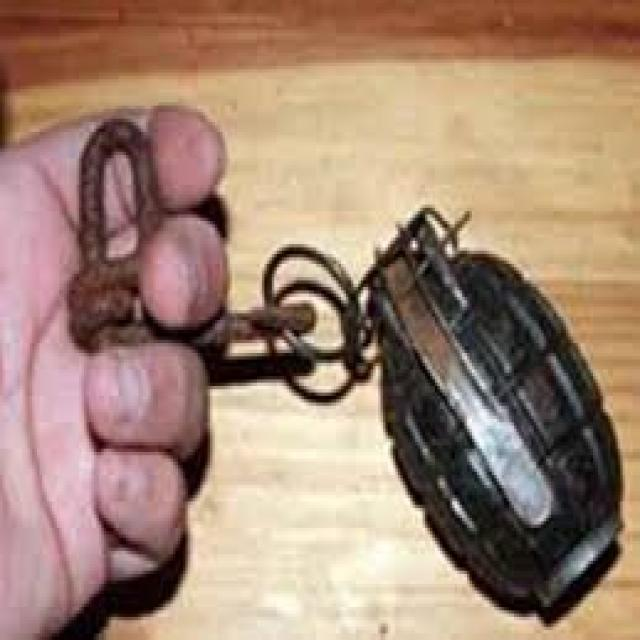grenade: (346, 205, 629, 624)
